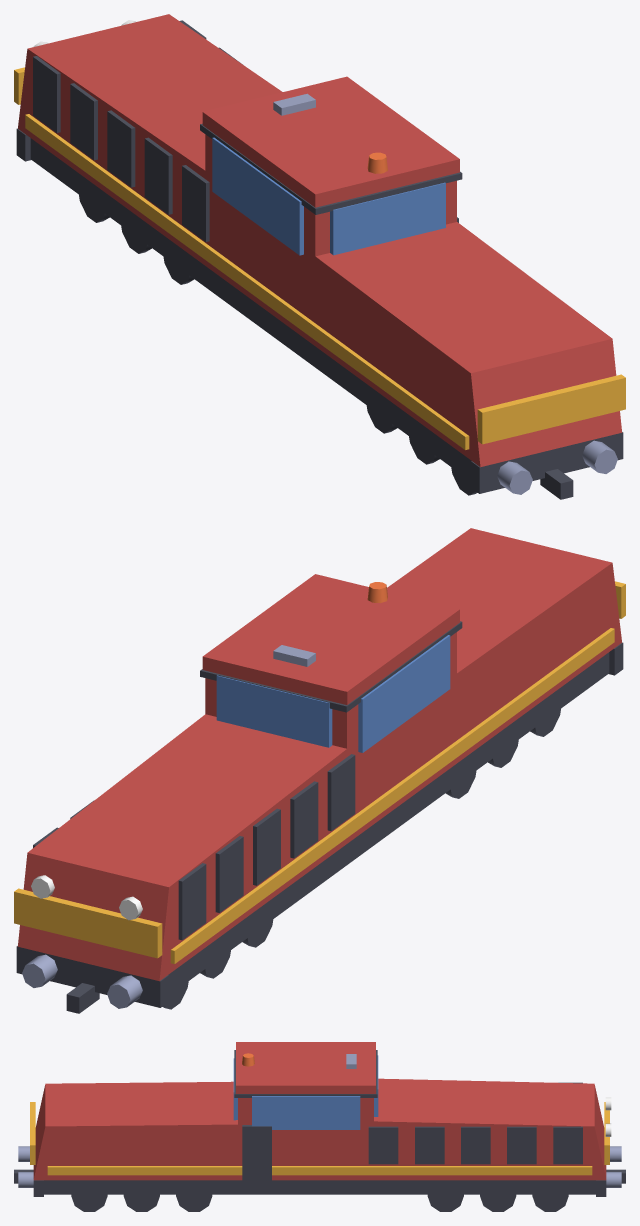
The model's file is locomotive.glb.
The picture shows the model from 3 angles, top to bottom: view 1: azimuth 30°, elevation 25°; view 2: azimuth 150°, elevation 25°; view 3: azimuth 270°, elevation 25°; orthographic projection. The views are drawn at different scales.
Visible parts, largest first — view 1: caisse, toit-cabine, longrine, filet-g, bande-nez-ar, lunette, vitre-cabine-g, persienne-g-3, persienne-g-2, persienne-g-4, persienne-g-0, persienne-g-1 (+5 smaller); view 2: caisse, toit-cabine, longrine, filet-g, bande-nez-av, pare-brise, vitre-cabine-g, persienne-g-0, persienne-g-1, persienne-g-3, persienne-g-4, persienne-g-2 (+5 smaller); view 3: caisse, longrine, toit-cabine, filet-d, vitre-cabine-d, porte-cabine, persienne-d-4, persienne-d-0, persienne-d-1, persienne-d-2, persienne-d-3, essieu-av-3-bandage-d (+10 smaller).
Part boxes in pixels (box(x1,y1,x2,y2)): caisse: box(18, 14, 621, 467); toit-cabine: box(202, 76, 459, 207); longrine: box(30, 138, 617, 490); filet-g: box(25, 114, 469, 449); bande-nez-ar: box(477, 374, 625, 444); lunette: box(330, 182, 445, 255); vitre-cabine-g: box(212, 137, 303, 255); persienne-g-3: box(144, 137, 172, 214); persienne-g-2: box(107, 110, 135, 187); persienne-g-4: box(182, 165, 209, 241); persienne-g-0: box(33, 56, 60, 132); persienne-g-1: box(70, 83, 97, 160); caisse: box(18, 528, 621, 981); toit-cabine: box(202, 574, 459, 704); longrine: box(22, 652, 609, 1005); filet-g: box(170, 628, 614, 963); bande-nez-av: box(14, 888, 162, 958); pare-brise: box(216, 675, 332, 747); vitre-cabine-g: box(358, 635, 450, 752); persienne-g-0: box(178, 863, 206, 940); persienne-g-1: box(215, 836, 243, 912); persienne-g-3: box(290, 781, 318, 858); persienne-g-4: box(327, 754, 355, 831); persienne-g-2: box(253, 808, 280, 885); caisse: box(33, 1078, 606, 1180); longrine: box(44, 1180, 595, 1194); toit-cabine: box(236, 1042, 375, 1093); filet-d: box(47, 1166, 592, 1175); vitre-cabine-d: box(252, 1096, 360, 1129); porte-cabine: box(242, 1125, 271, 1180); persienne-d-4: box(368, 1126, 398, 1164); persienne-d-0: box(553, 1126, 582, 1164); persienne-d-1: box(507, 1126, 536, 1164); persienne-d-2: box(461, 1126, 490, 1164); persienne-d-3: box(415, 1126, 444, 1164); essieu-av-3-bandage-d: box(427, 1194, 463, 1211).
Size of the model in its own units: 0.155 by 0.2267 by 0.876.
